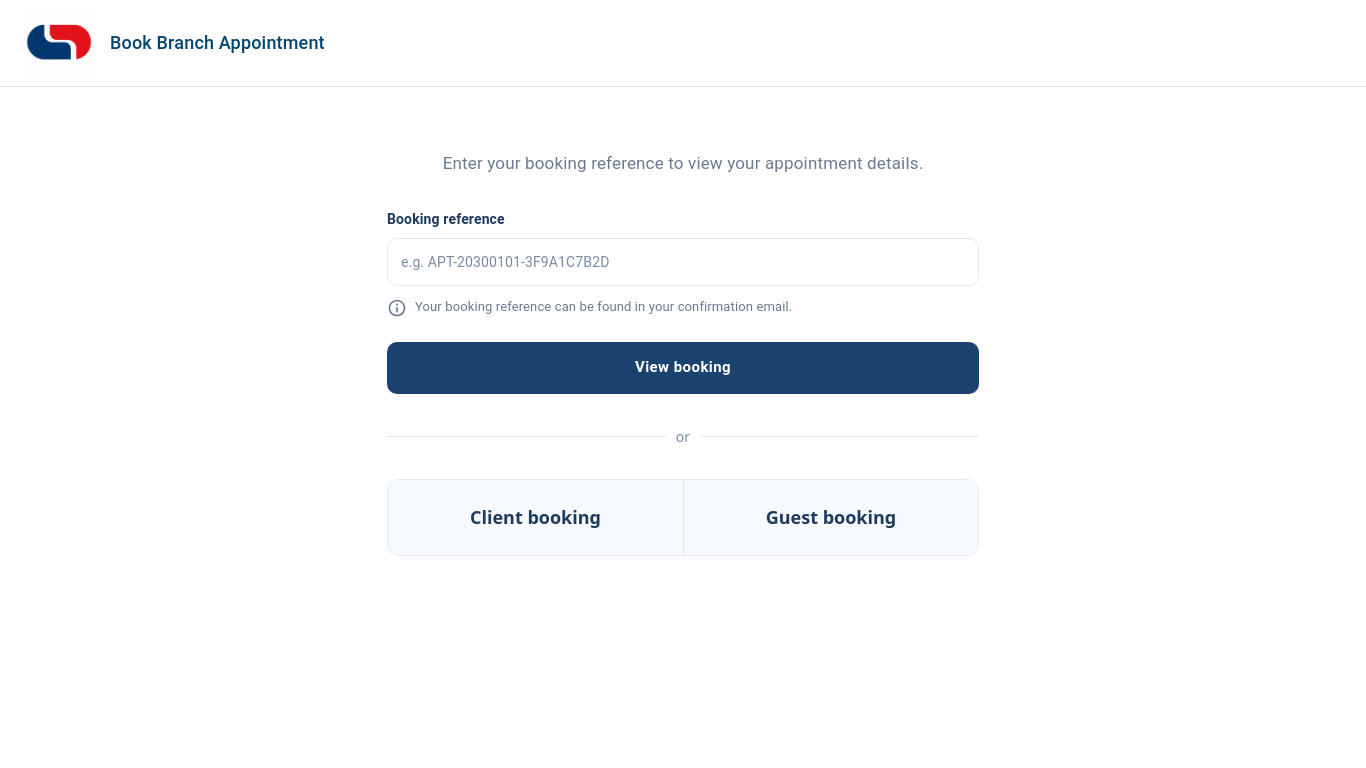
IndexScreen › does not present a 401 on the public lookup as an expired session
The image size is (1366, 768).
Type "APT-20300101-3F9A1C7B2D" into the field labelled "Booking reference" at (683, 261), box [387,235,979,288]
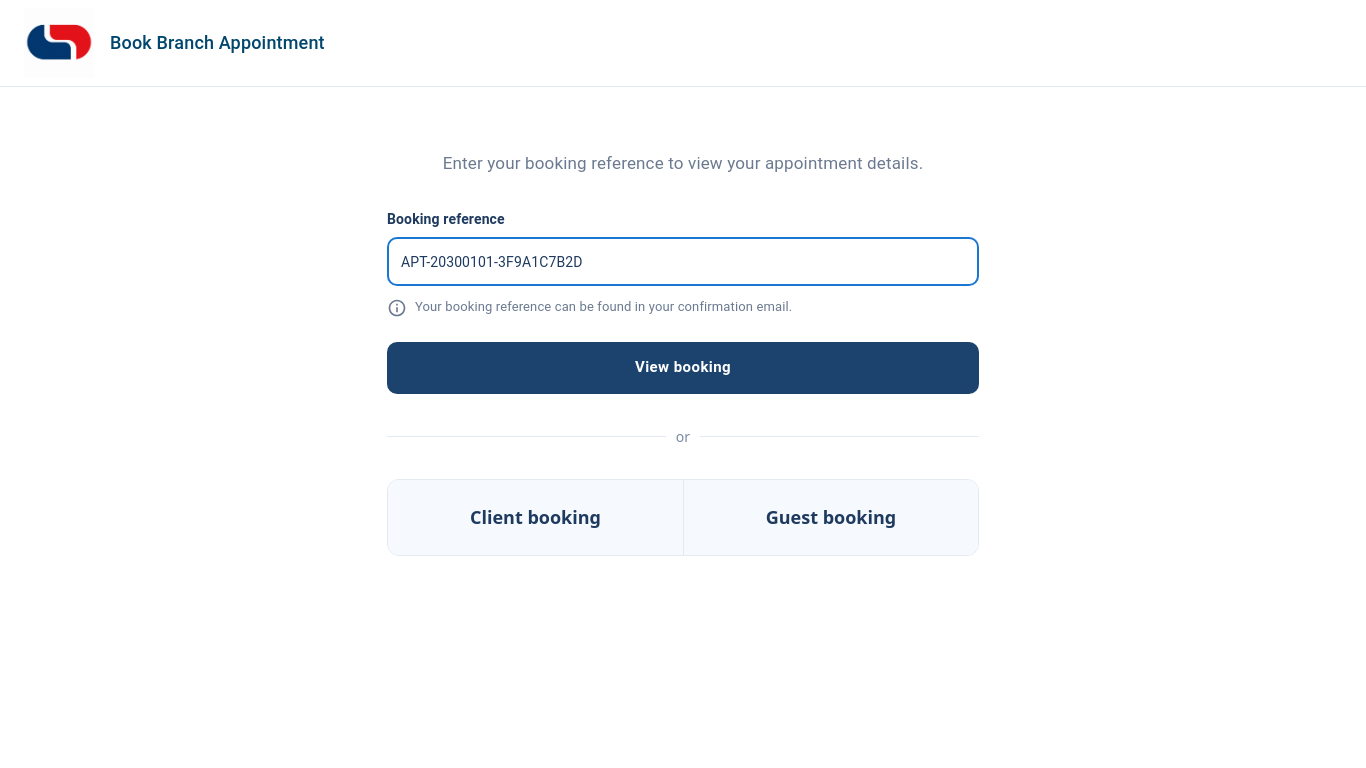
Click the button "View booking" at (683, 368), box [387,342,979,394]
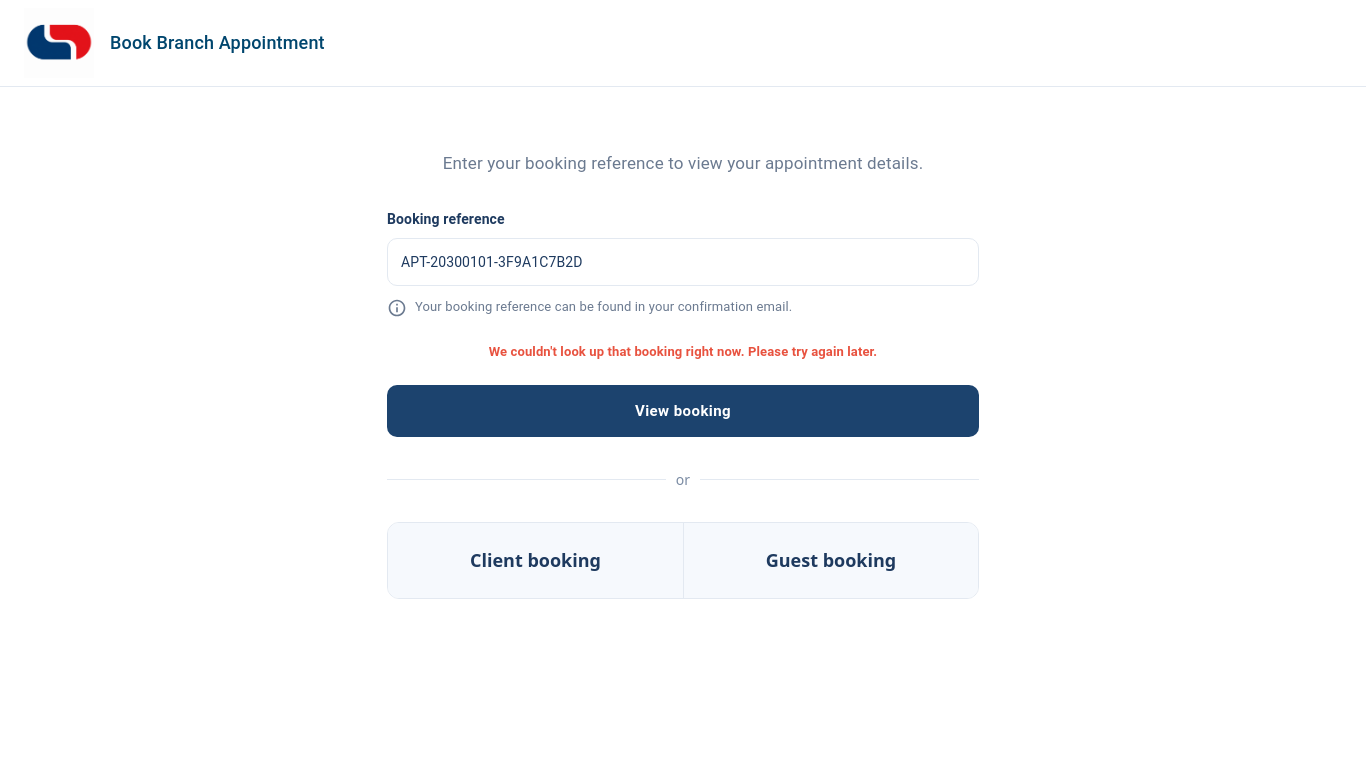
Check: the text "We couldn't look up that booking right now. Please try again later." is shown, box [489,344,877,358]
